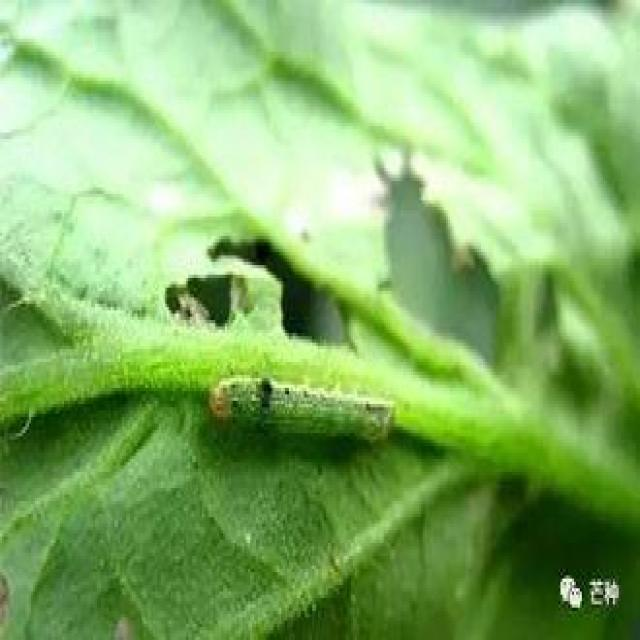BeetArmyWorm-Larva-: (202, 366, 408, 466)
